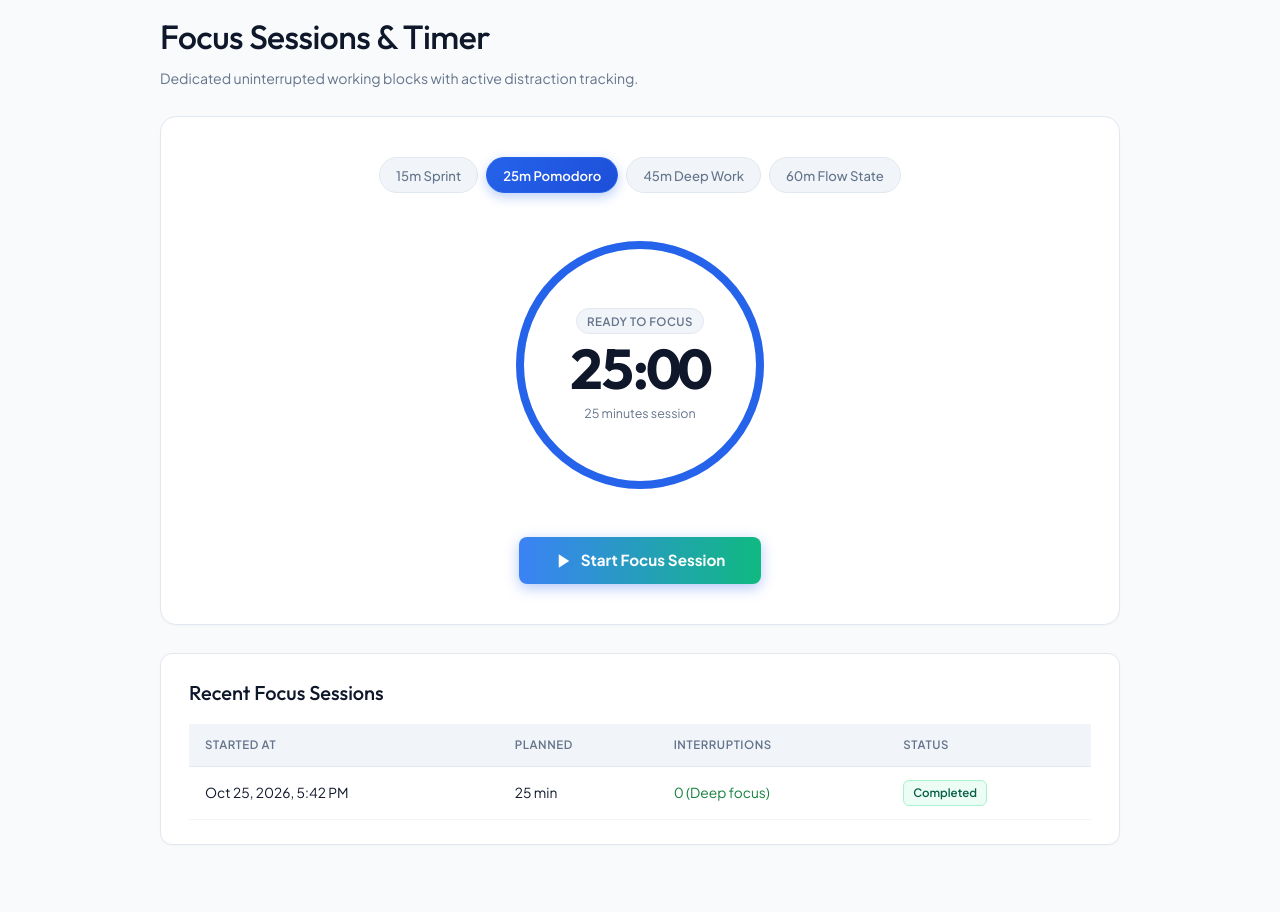
Focus Sessions Feature with Timer Clock › starts session and switches to active countdown mode
The image size is (1280, 912).
Click the button "Start Focus Session". click: [640, 561]
box: top-left (519, 538), bottom-right (761, 584)
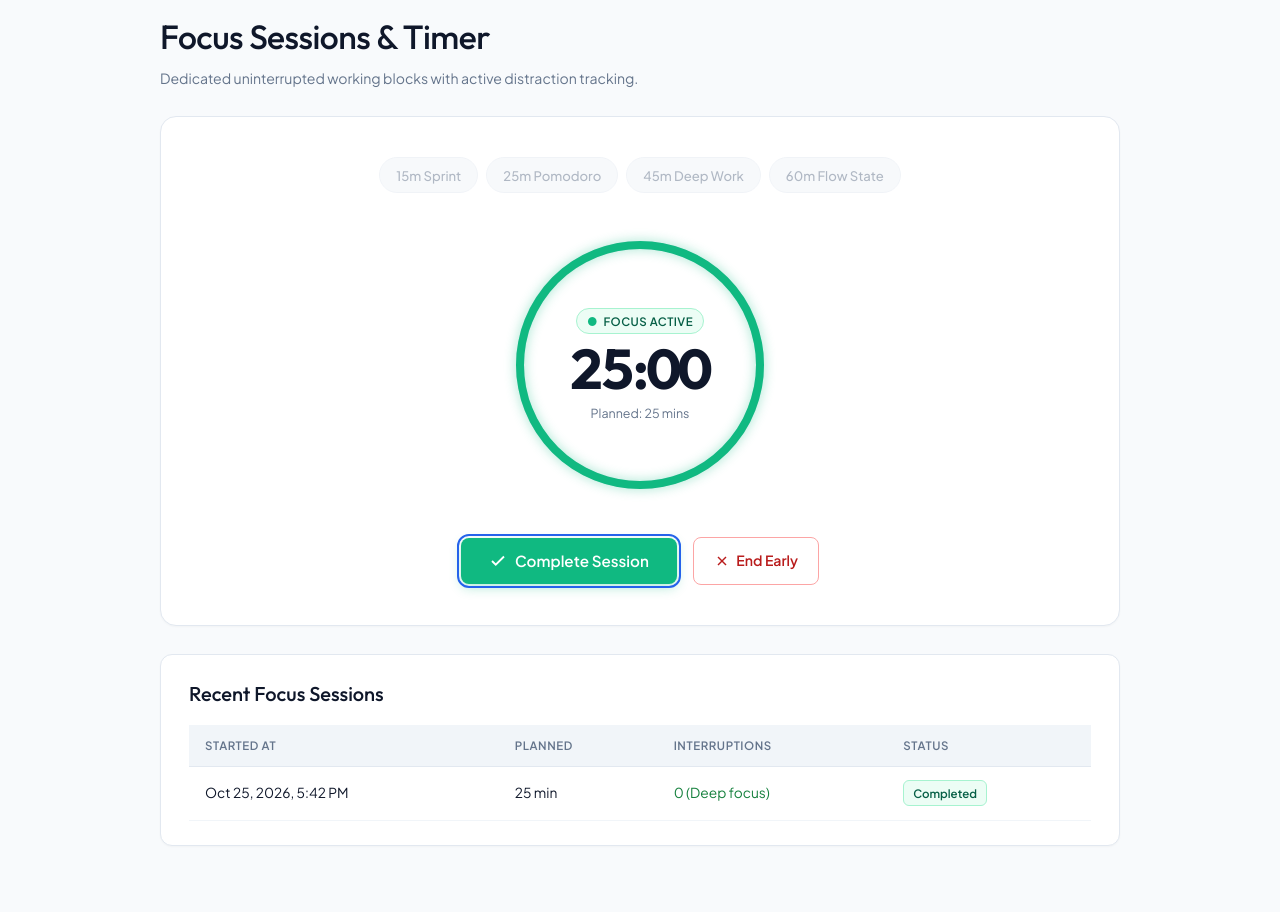
Result: the text "● Focus Active" is shown at top-left (576, 308), bottom-right (704, 334)
Result: the button "Complete Session" is shown at top-left (461, 538), bottom-right (677, 584)
Result: the button "End Early" is shown at top-left (693, 538), bottom-right (819, 585)
